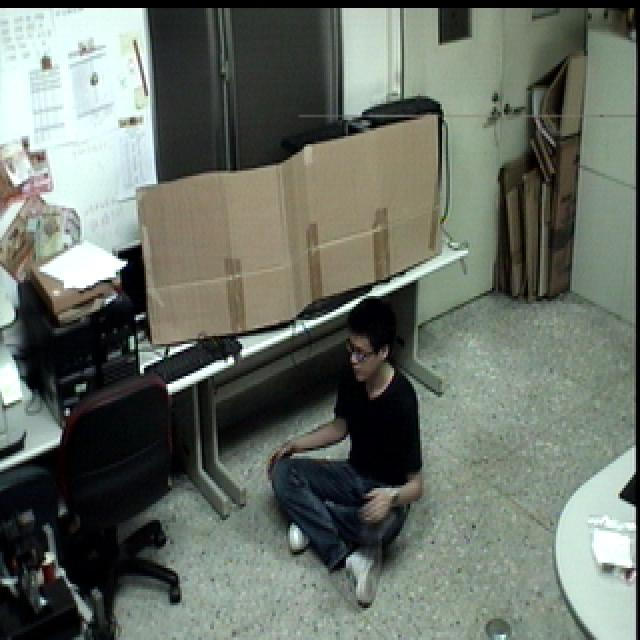sit: (262, 288, 433, 615)
